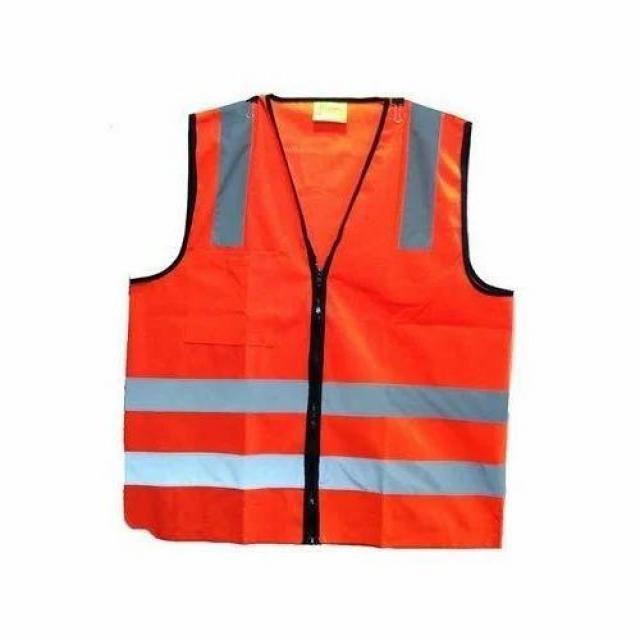Reflective-Jacket: (72, 35, 544, 576)
